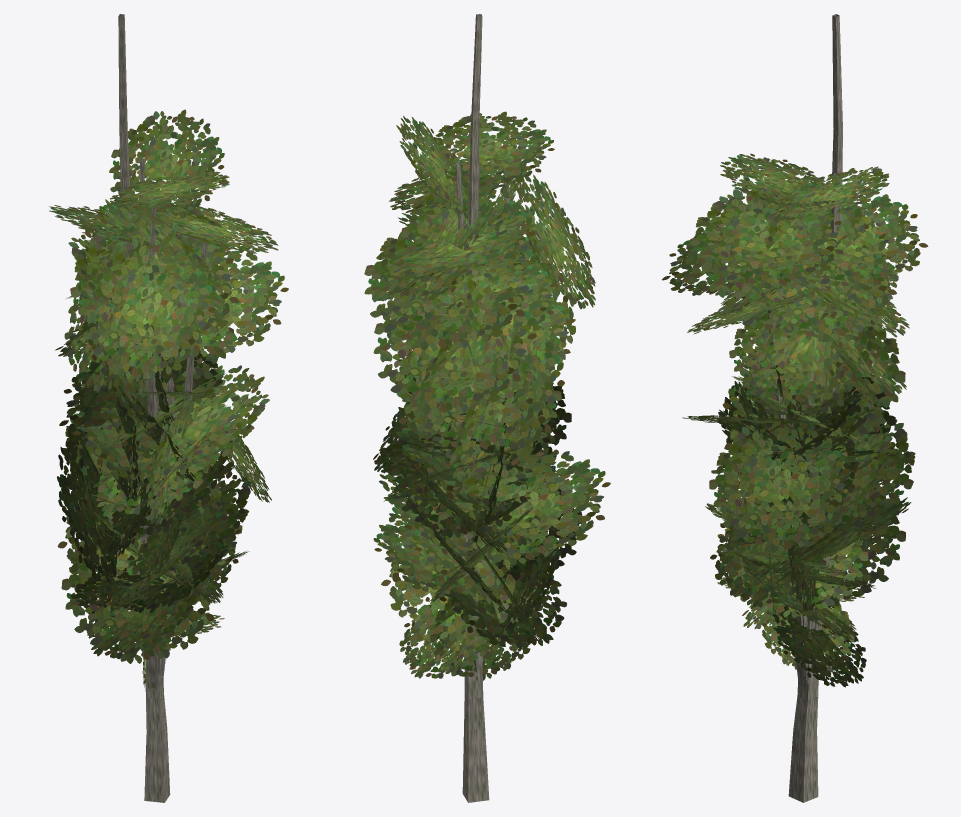
Rendered from Tree_Poplar_2_LOD2.gltf.
3 renders of one model, left to right at view 1: azimuth 30°, elevation 25°; view 2: azimuth 150°, elevation 25°; view 3: azimuth 270°, elevation 25°, orthographic. The views are drawn at different scales.
Parts seen in each view (by area): view 1: Tree_Poplar_2_LOD2; view 2: Tree_Poplar_2_LOD2; view 3: Tree_Poplar_2_LOD2.
Boxes of the visible parts, x1,y1,x2,y2 form: Tree_Poplar_2_LOD2: (49,14,288,802); Tree_Poplar_2_LOD2: (364,14,610,802); Tree_Poplar_2_LOD2: (662,14,928,802).
Bounding box in the file's own units: 7.44 × 22.02 × 7.75.
Materials: 2 (2 with a texture image).
